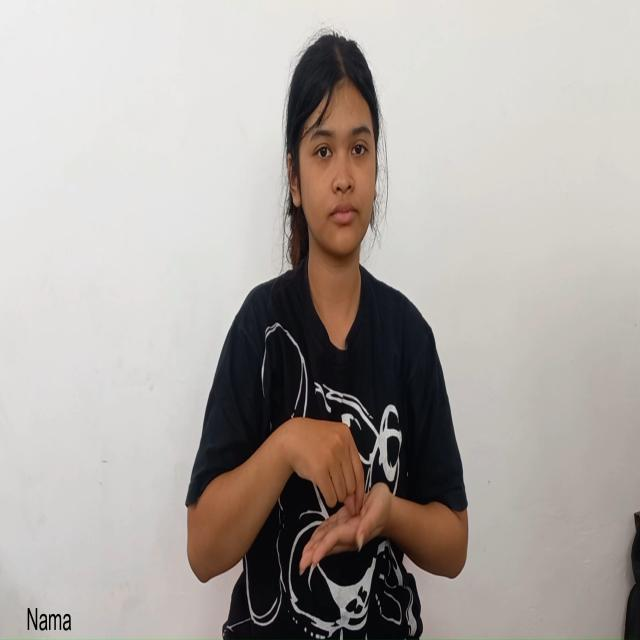Nama -BISINDO-: (287, 416, 391, 576)
